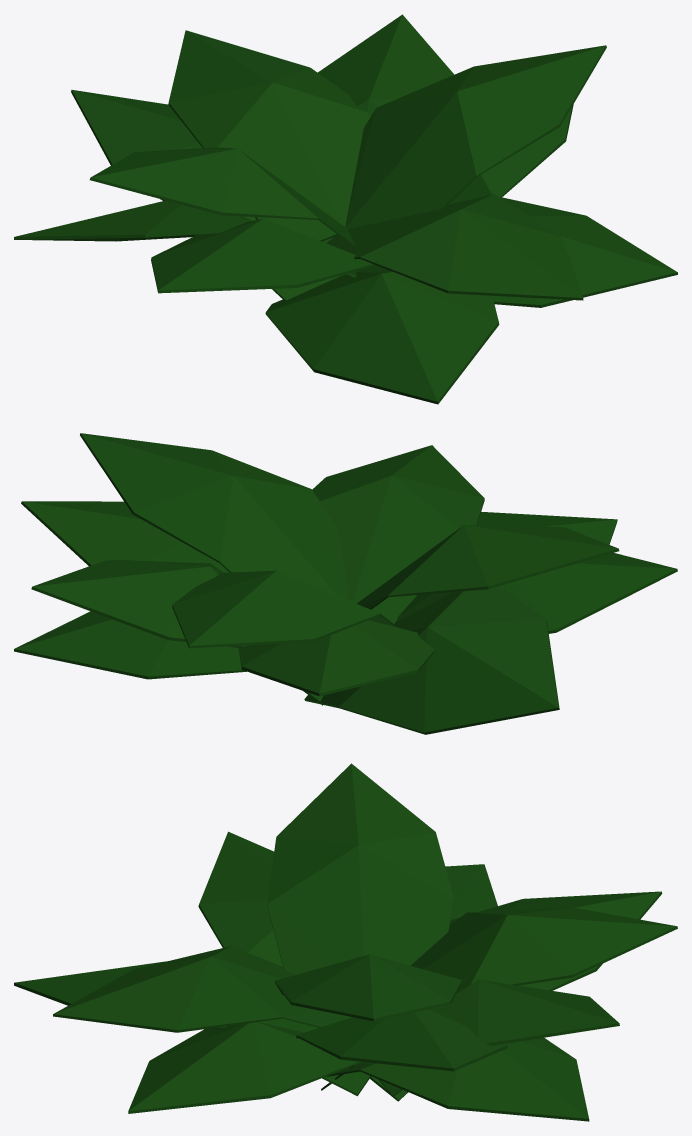
Rendered from Plant.obj.
3 renders of one model, top to bottom at view 1: azimuth 30°, elevation 25°; view 2: azimuth 150°, elevation 25°; view 3: azimuth 270°, elevation 25°, orthographic. The views are drawn at different scales.
Parts seen in each view (by area): view 1: Plant_Cube.012; view 2: Plant_Cube.012; view 3: Plant_Cube.012.
Part boxes in pixels (x1,y1,x2,y2): Plant_Cube.012: (14,14,677,404); Plant_Cube.012: (14,433,677,734); Plant_Cube.012: (14,763,677,1121).
Size of the model in its own units: 3.03 by 1.07 by 3.23.
